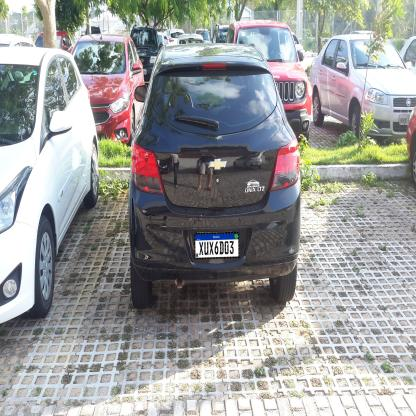PlacaM: (195, 232, 240, 259)
